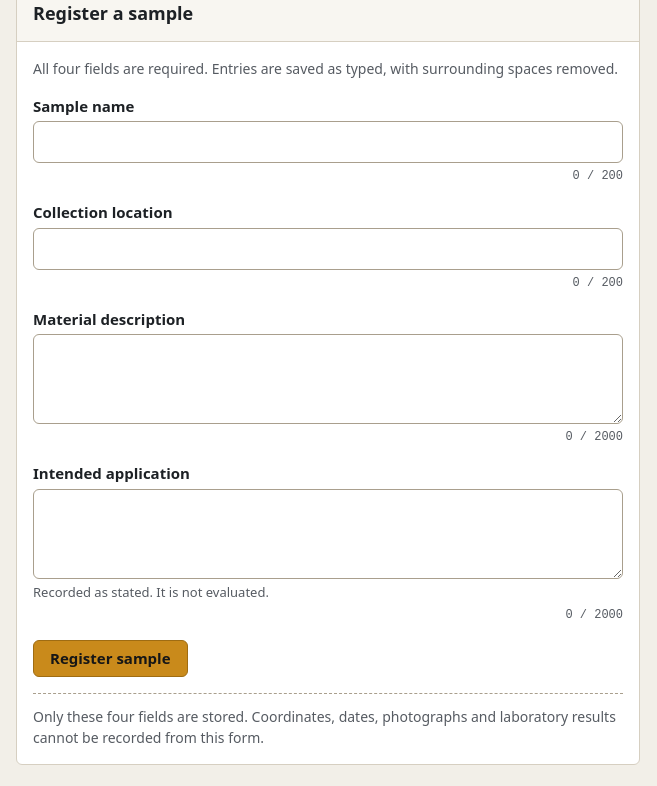
Test: registration form › does not call the API for an invalid submission
(page scrolled)
Click the button "Register sample" at point(110, 659), box top-left (33, 640), bottom-right (188, 677)
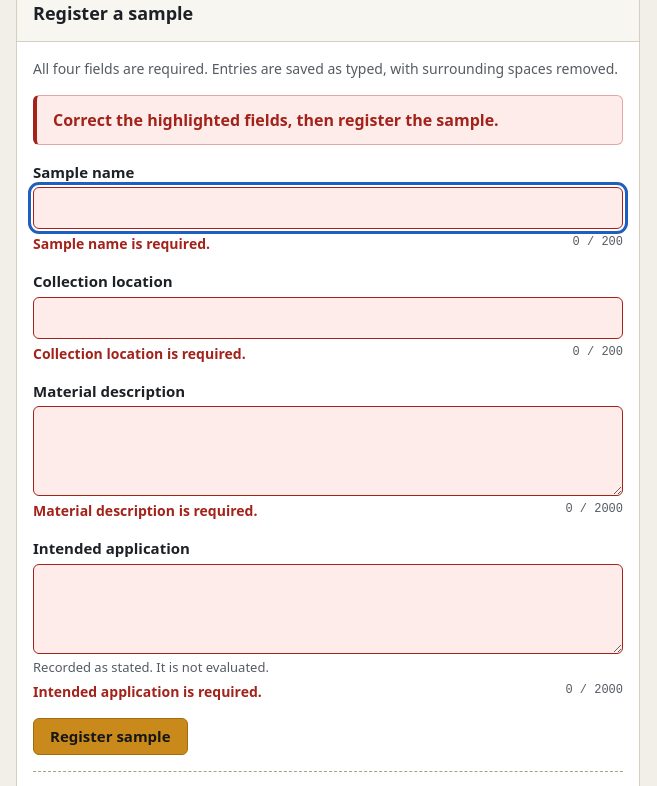
expect the text "Sample name is required." is shown: met, box top-left (33, 234), bottom-right (210, 254)
expect the text "Collection location is required." is shown: met, box top-left (33, 343), bottom-right (246, 364)
expect the text "Material description is required." is shown: met, box top-left (33, 500), bottom-right (257, 522)
